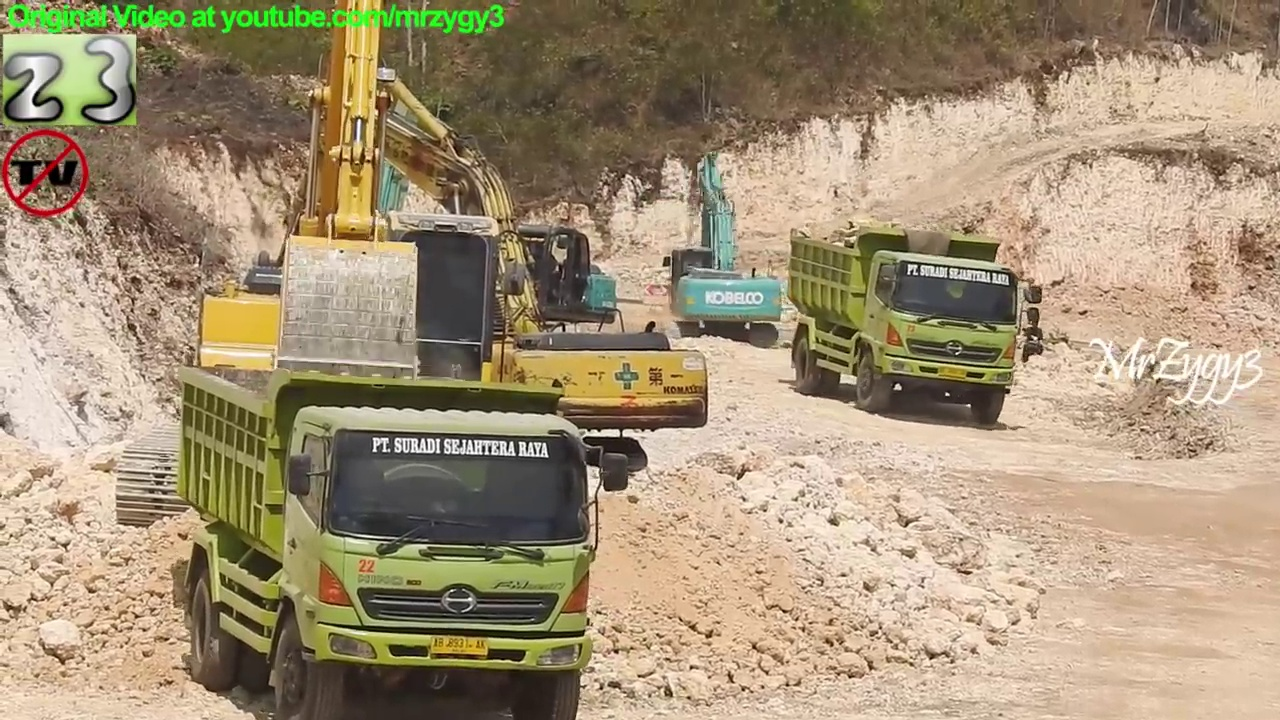excavator: (107, 1, 579, 547), (172, 62, 716, 490), (302, 71, 624, 368), (657, 150, 788, 352)
truck: (169, 350, 633, 720), (782, 220, 1048, 431)
